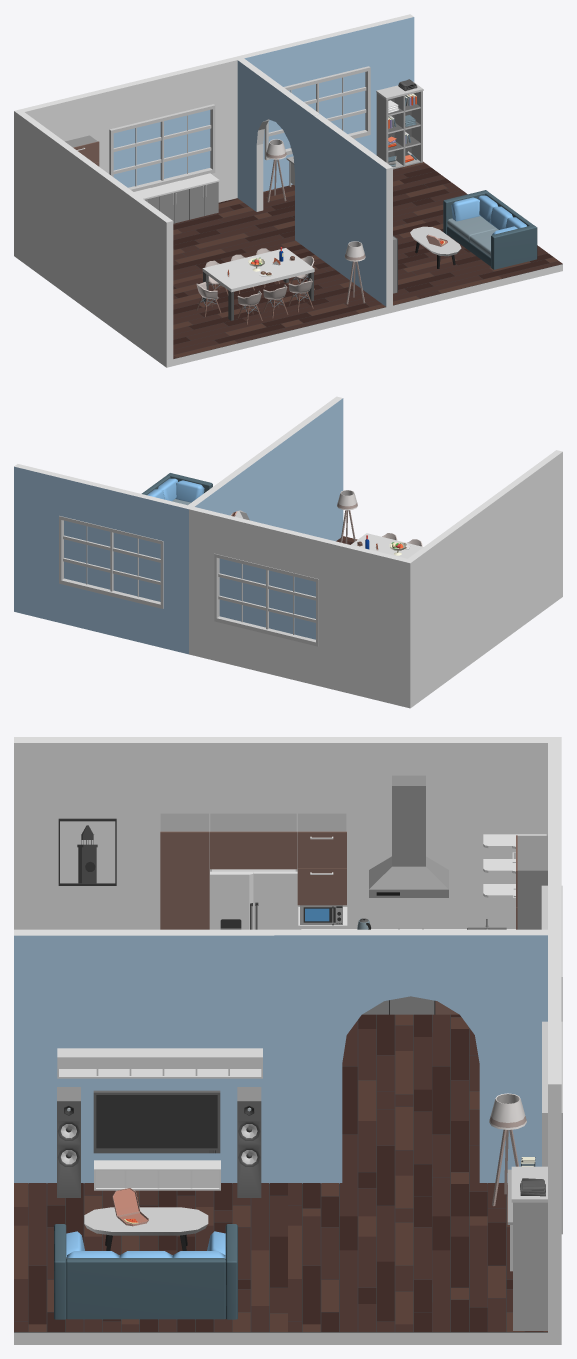
File: room_13.glb
3 views of the same model, one above another, from view 1: azimuth 30°, elevation 25°; view 2: azimuth 150°, elevation 25°; view 3: azimuth 270°, elevation 25° (orthographic). The views are drawn at different scales.
Parts seen in each view (by area): view 1: Walls_006.069, Walls_144.002, Walls_145.001, window_018.004, floor_016.008, Walls_011.007, floor_016.009, sofa_029.003, floor_016.007, floor_016.005, Walls_006.076, Walls_144.004 (+16 smaller); view 2: Walls_006.069, Walls_006.075, Walls_144.002, window_018.003, window_018.004, Walls_144.003, Walls_144.004, Walls_006.076, Walls_006.074, Walls_144.005, Walls_144.001, Walls_006.068 (+4 smaller); view 3: Walls_006.069, Walls_144.002, Walls_145.001, kitchen_item_015.001, floor_016.006, tv_wall_019.001, floor_016.008, floor_016.005, sofa_029.003, Walls_011.007, floor_016.010, floor_016.007 (+10 smaller).
Boxes of the visible parts, x1=… form: Walls_006.069: x1=14, y1=109, x2=173, y2=367; Walls_144.002: x1=314, y1=114, x2=392, y2=307; Walls_145.001: x1=237, y1=58, x2=319, y2=253; window_018.004: x1=109, y1=104, x2=215, y2=191; floor_016.008: x1=173, y1=187, x2=309, y2=263; Walls_011.007: x1=173, y1=163, x2=562, y2=365; floor_016.009: x1=173, y1=277, x2=298, y2=358; sofa_029.003: x1=443, y1=190, x2=537, y2=269; floor_016.007: x1=245, y1=251, x2=430, y2=328; floor_016.005: x1=393, y1=219, x2=562, y2=295; Walls_006.076: x1=107, y1=63, x2=212, y2=128; Walls_144.004: x1=262, y1=25, x2=367, y2=86; Walls_006.069: x1=403, y1=450, x2=562, y2=708; Walls_006.075: x1=318, y1=538, x2=406, y2=706; Walls_144.002: x1=264, y1=396, x2=343, y2=541; window_018.003: x1=59, y1=516, x2=163, y2=608; window_018.004: x1=214, y1=553, x2=318, y2=646; Walls_144.003: x1=14, y1=464, x2=63, y2=622; Walls_144.004: x1=60, y1=475, x2=165, y2=540; Walls_006.076: x1=215, y1=513, x2=320, y2=578; Walls_006.074: x1=215, y1=622, x2=317, y2=685; Walls_144.005: x1=60, y1=584, x2=162, y2=647; Walls_144.001: x1=162, y1=500, x2=192, y2=654; Walls_006.068: x1=189, y1=506, x2=218, y2=660; Walls_006.069: x1=14, y1=737, x2=561, y2=929; Walls_144.002: x1=14, y1=929, x2=274, y2=1183; Walls_145.001: x1=274, y1=929, x2=547, y2=1183; kitchen_item_015.001: x1=160, y1=775, x2=547, y2=1014; floor_016.006: x1=288, y1=1216, x2=547, y2=1331; tv_wall_019.001: x1=57, y1=1048, x2=262, y2=1197; floor_016.008: x1=288, y1=1100, x2=507, y2=1216; floor_016.005: x1=14, y1=1216, x2=287, y2=1331; sofa_029.003: x1=54, y1=1224, x2=237, y2=1319; Walls_011.007: x1=14, y1=1014, x2=547, y2=1344; floor_016.010: x1=342, y1=1014, x2=479, y2=1100; floor_016.007: x1=14, y1=1183, x2=287, y2=1216.
Size of the model in its own units: 12 by 4.2 by 8.02.
1 material, 1 textured.
